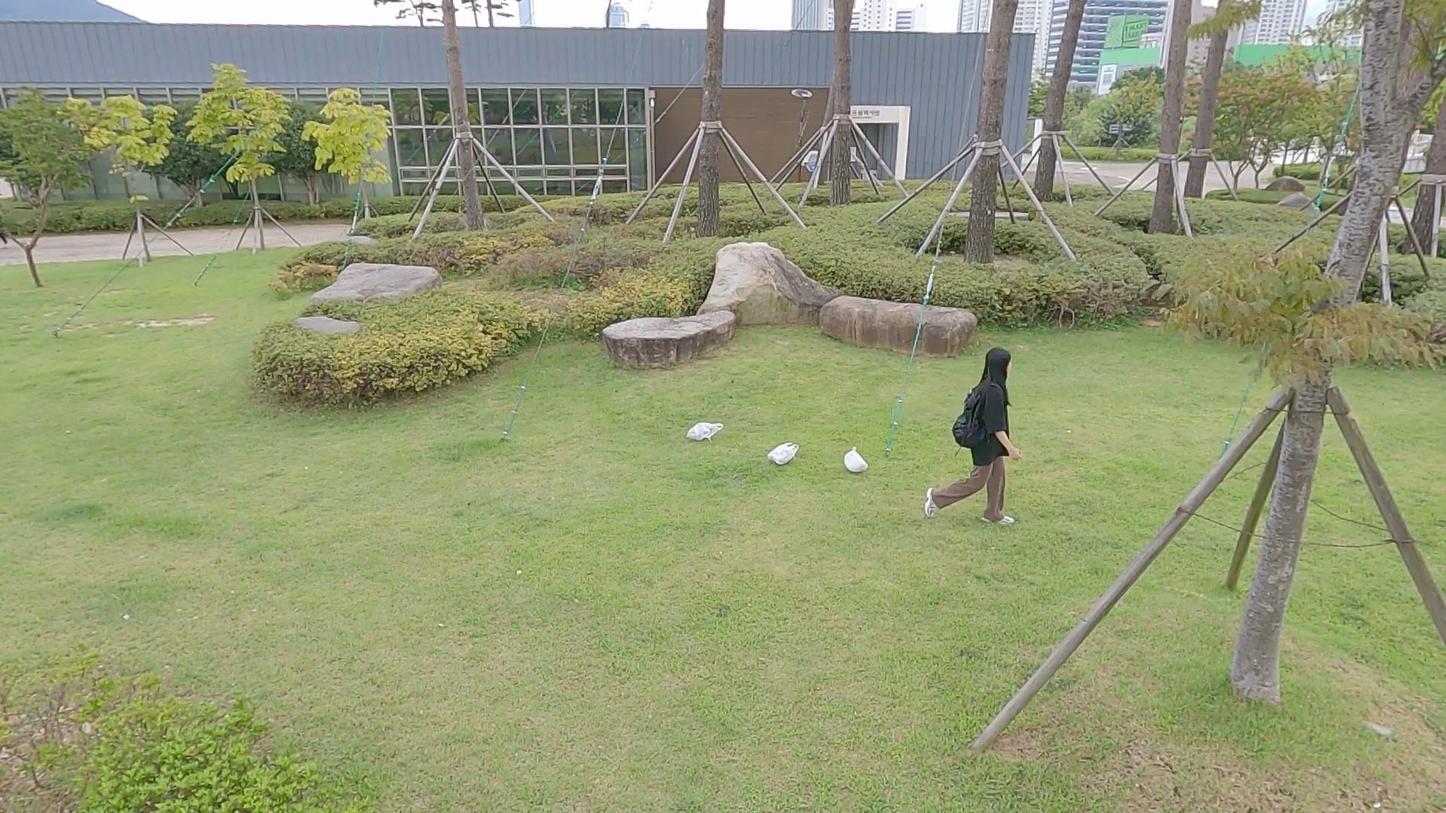person: (922, 348, 1024, 528)
trash: (685, 419, 726, 446), (765, 441, 804, 467), (841, 445, 871, 474)
